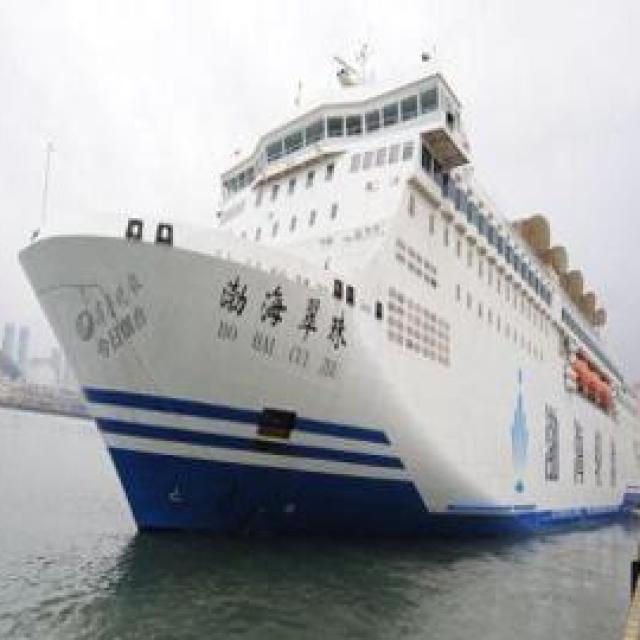passenger ship: (14, 62, 640, 519)
